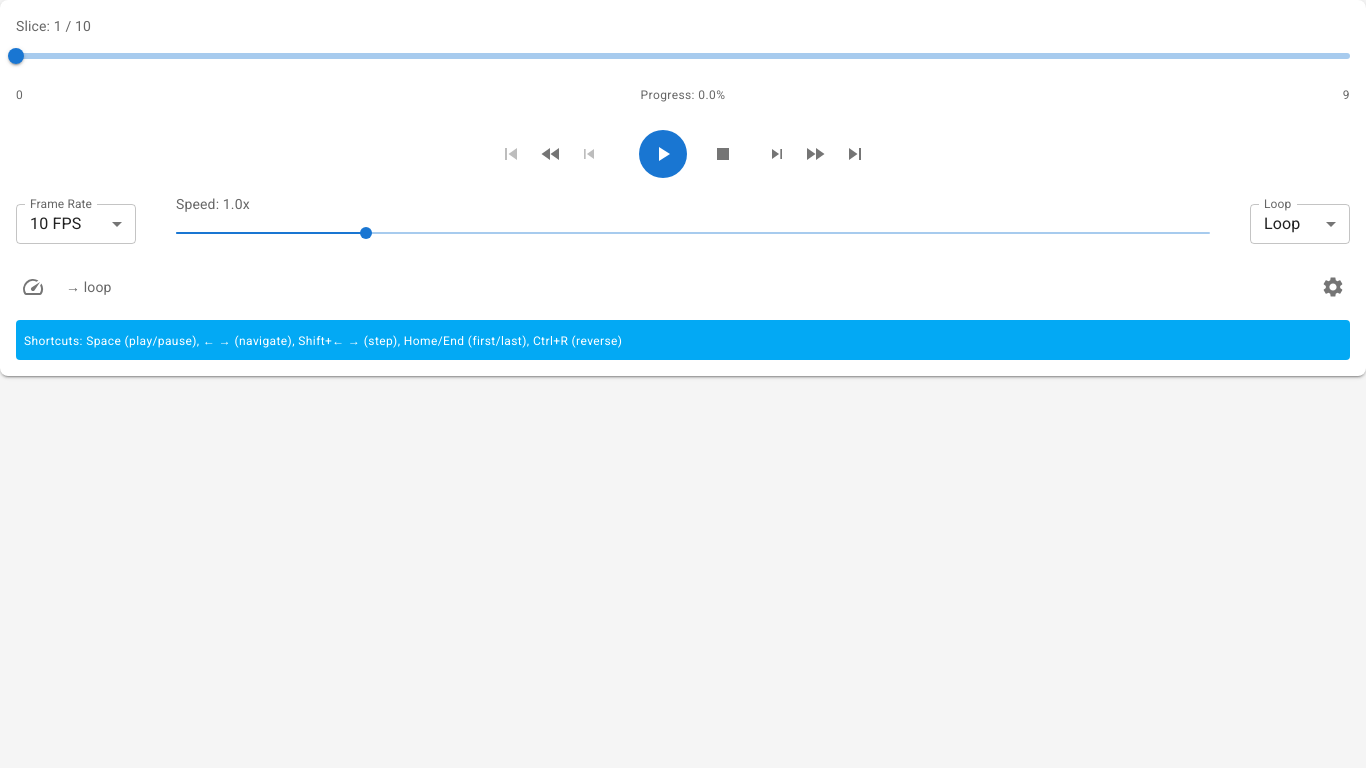
Scenario: CinePlayer › Advanced Controls › should toggle advanced controls
What coordinates should you click on to do the following:
click the button named "advanced controls"
I would click on:
 (1333, 287)
Its box is 1316,270 -> 1350,304.
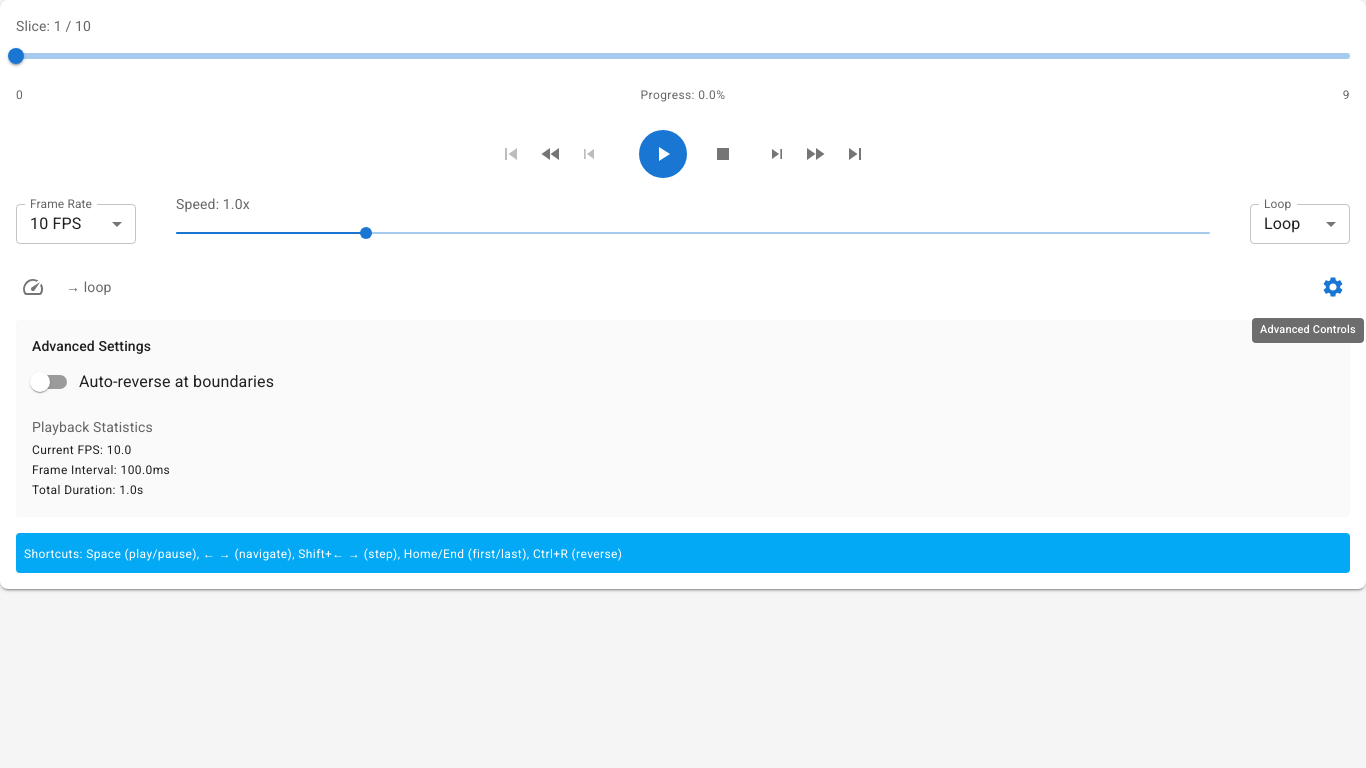
Now the heading "Advanced Settings" is shown, box 32,338 -> 151,354
Now the text "Auto-reverse at boundaries" is shown, box 79,370 -> 274,394
